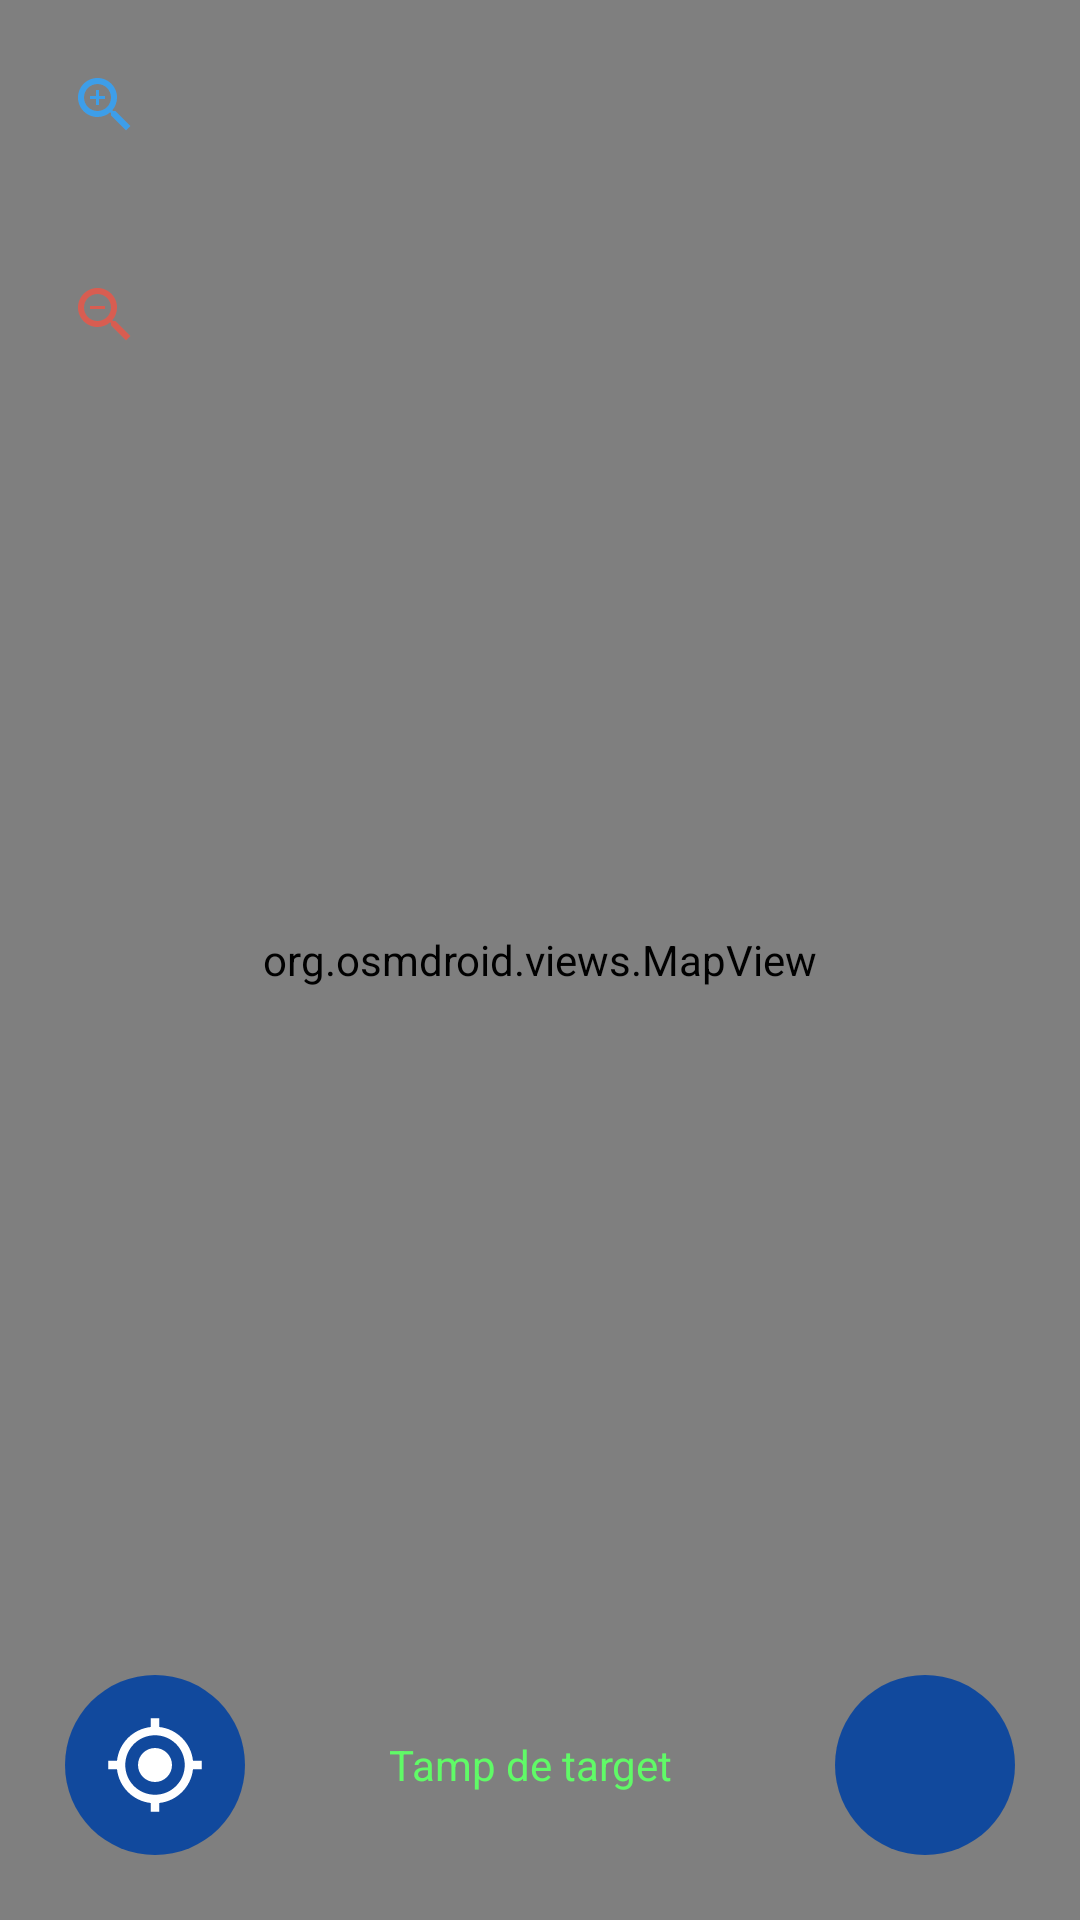

Screen size 1080px×1920px. Icon name, then its box in pixels as (x1, y1, x2, y2):
location: (65, 1675, 245, 1855)
zoom in: (78, 78, 130, 130)
zoom out: (78, 288, 130, 340)
